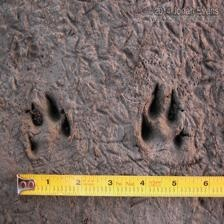rabbit: (135, 82, 196, 165), (21, 91, 79, 161)
